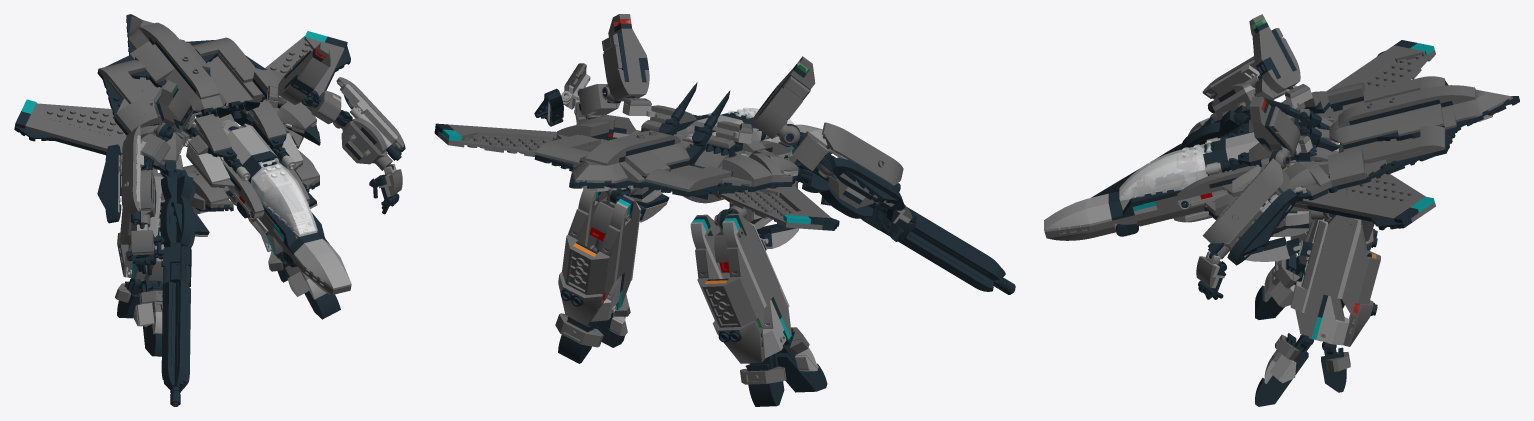
File: vf-171-nightmare-plus-gerwalk.dae
3 renders of one model, left to right at view 1: azimuth 30°, elevation 25°; view 2: azimuth 150°, elevation 25°; view 3: azimuth 270°, elevation 25°, orthographic. The views are drawn at different scales.
Bounding box in the file's own units: 729 × 814 × 578.
